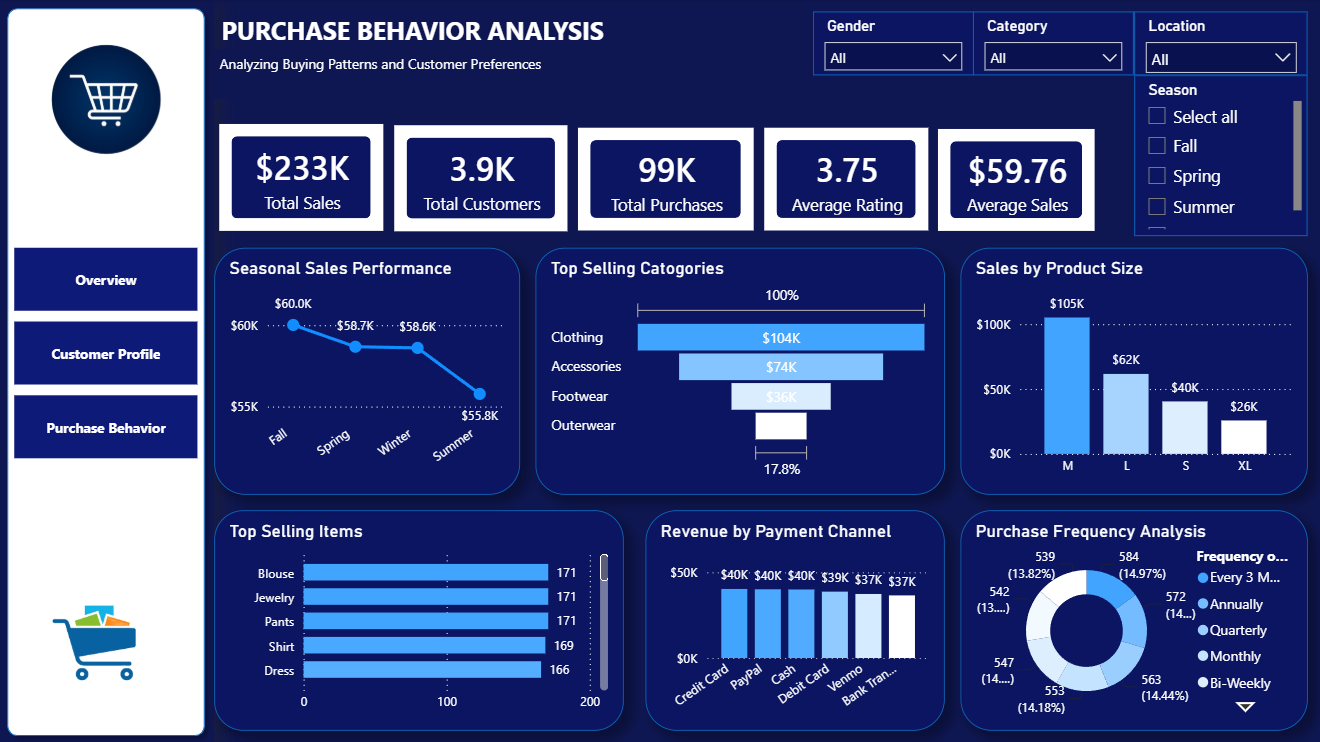

This screenshot's page, from the dashboard's own definition file:
{"tool":"powerbi","page":{"name":"Purchase Behavior","canvas":[1280,720],"ordinal":2},"visuals":[{"type":"shape","box":[0,0,208.6,720.4],"z":0},{"type":"funnel","title":"Top Selling Catogories","fields":{"Category":["shopping_behavior_updated (1).Category"],"Y":["Sum(shopping_behavior_updated (1).Purchase Amount (USD))"]},"box":[518.7,240.1,395.2,238.8],"z":1000},{"type":"clusteredColumnChart","title":"Sales by Product Size","fields":{"Category":["shopping_behavior_updated (1).Size"],"Y":["Sum(shopping_behavior_updated (1).Purchase Amount (USD))"]},"box":[929,240.1,334.8,238.8],"z":2000},{"type":"clusteredBarChart","title":"Top Selling Items","fields":{"Category":["shopping_behavior_updated (1).Item Purchased"],"Y":["CountNonNull(shopping_behavior_updated (1).Customer ID)"]},"box":[208.6,494,395.2,212.7],"z":3000},{"type":"donutChart","title":"Purchase Frequency Analysis","fields":{"Category":["shopping_behavior_updated (1).Frequency of Purchases"],"Y":["CountNonNull(shopping_behavior_updated (1).Customer ID)"]},"box":[929,494,334.8,212.7],"z":4000},{"type":"columnChart","title":"Revenue by Payment Channel","fields":{"Category":["shopping_behavior_updated (1).Payment Method"],"Y":["Sum(shopping_behavior_updated (1).Purchase Amount (USD))"]},"box":[625.5,493.7,288.6,212.4],"z":5000},{"type":"lineChart","title":"Seasonal Sales Performance","fields":{"Category":["shopping_behavior_updated (1).Season"],"Y":["Sum(shopping_behavior_updated (1).Purchase Amount (USD))"]},"box":[208.6,240.1,295,238.8],"z":6000},{"type":"textbox","box":[206.5,10.3,455.6,86.4],"z":7000},{"type":"image","box":[8.2,19.2,192.1,155.1],"z":8000},{"type":"image","box":[0,524.2,185.2,196.2],"z":9000},{"type":"slicer","fields":{"Values":["shopping_behavior_updated (1).Gender"]},"box":[786.3,12.3,155.1,61.7],"z":10000},{"type":"slicer","fields":{"Values":["shopping_behavior_updated (1).Category"]},"box":[941.3,12.3,155.1,61.7],"z":11000},{"type":"slicer","fields":{"Values":["shopping_behavior_updated (1).Season"]},"box":[1096.4,74.1,167.4,155.1],"z":12000},{"type":"textbox","box":[208.6,48,367.8,48],"z":13000},{"type":"cardVisual","title":"Total Sales","fields":{"Data":["Sum(shopping_behavior_updated (1).Purchase Amount (USD))"]},"box":[208.6,115.3,168.8,113.9],"z":14000},{"type":"cardVisual","title":"Total Sales","fields":{"Data":["CountNonNull(shopping_behavior_updated (1).Customer ID)"]},"box":[377.4,116.6,177,112.5],"z":15000},{"type":"cardVisual","title":"Total Sales","fields":{"Data":["Sum(shopping_behavior_updated (1).Previous Purchases)"]},"box":[554.4,119.4,179.8,109.8],"z":16000},{"type":"cardVisual","title":"Total Sales","fields":{"Data":["Avg(shopping_behavior_updated (1).Purchase Amount (USD))"]},"box":[902.9,120.8,161.9,108.4],"z":17000},{"type":"cardVisual","title":"Total Sales","fields":{"Data":["Avg(shopping_behavior_updated (1).Review Rating)"]},"box":[734.1,119.4,168.8,109.8],"z":18000},{"type":"slicer","fields":{"Values":["shopping_behavior_updated (1).Location"]},"box":[1096.4,12.3,167.4,61.7],"z":19000},{"type":"pageNavigator","box":[15.1,240.1,177,205.8],"z":20000}]}

Visuals, with their boxes in screenshot pixels (x1, y1, x2, y2), scaled from the page's 1280x720 canvas onto the 1320x742 screenshot:
shape: {"left": 0, "top": 0, "right": 215, "bottom": 741}
"Top Selling Catogories" funnel: {"left": 535, "top": 247, "right": 942, "bottom": 494}
"Sales by Product Size" clusteredColumnChart: {"left": 958, "top": 247, "right": 1303, "bottom": 494}
"Top Selling Items" clusteredBarChart: {"left": 215, "top": 509, "right": 623, "bottom": 728}
"Purchase Frequency Analysis" donutChart: {"left": 958, "top": 509, "right": 1303, "bottom": 728}
"Revenue by Payment Channel" columnChart: {"left": 645, "top": 509, "right": 943, "bottom": 728}
"Seasonal Sales Performance" lineChart: {"left": 215, "top": 247, "right": 519, "bottom": 494}
textbox: {"left": 213, "top": 11, "right": 683, "bottom": 100}
image: {"left": 8, "top": 20, "right": 207, "bottom": 180}
image: {"left": 0, "top": 540, "right": 191, "bottom": 741}
slicer - shopping_behavior_updated (1).Gender: {"left": 811, "top": 13, "right": 971, "bottom": 76}
slicer - shopping_behavior_updated (1).Category: {"left": 971, "top": 13, "right": 1131, "bottom": 76}
slicer - shopping_behavior_updated (1).Season: {"left": 1131, "top": 76, "right": 1303, "bottom": 236}
textbox: {"left": 215, "top": 49, "right": 594, "bottom": 99}
"Total Sales" cardVisual: {"left": 215, "top": 119, "right": 389, "bottom": 236}
"Total Sales" cardVisual: {"left": 389, "top": 120, "right": 572, "bottom": 236}
"Total Sales" cardVisual: {"left": 572, "top": 123, "right": 757, "bottom": 236}
"Total Sales" cardVisual: {"left": 931, "top": 124, "right": 1098, "bottom": 236}
"Total Sales" cardVisual: {"left": 757, "top": 123, "right": 931, "bottom": 236}
slicer - shopping_behavior_updated (1).Location: {"left": 1131, "top": 13, "right": 1303, "bottom": 76}
pageNavigator: {"left": 16, "top": 247, "right": 198, "bottom": 460}
